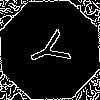Y: (25, 25, 80, 74)
